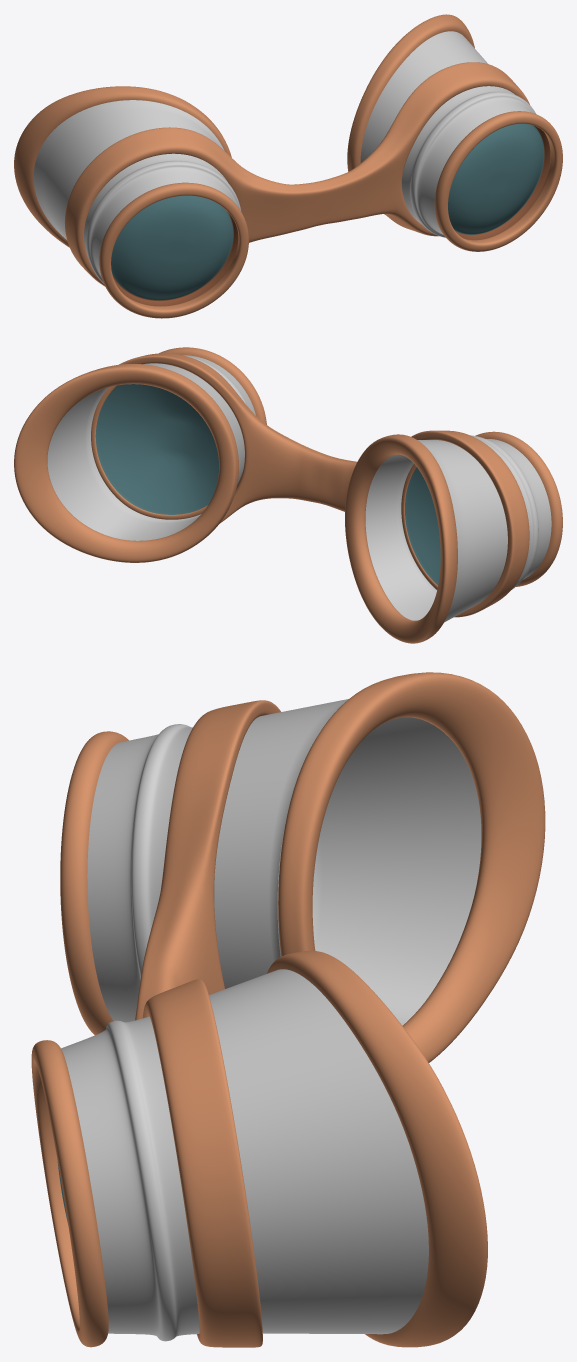
File: zhuizong.fbx
3 views of the same model, one above another, from view 1: azimuth 30°, elevation 25°; view 2: azimuth 150°, elevation 25°; view 3: azimuth 270°, elevation 25° (orthographic). The views are drawn at different scales.
Parts seen in each view (by area): view 1: Cylinder8; view 2: Cylinder8; view 3: Cylinder8.
Part boxes in pixels (x1,y1,x2,y2): Cylinder8: (14, 14, 562, 318); Cylinder8: (14, 347, 562, 643); Cylinder8: (31, 672, 545, 1347).
Size of the model in its own units: 20.6 by 8 by 10.1.
